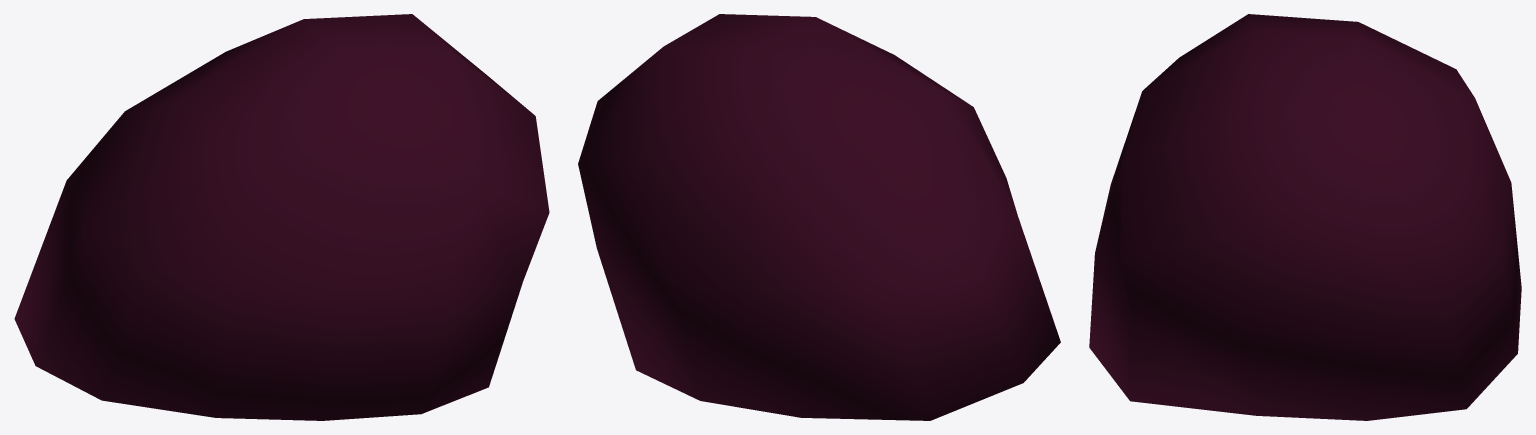
The model's file is slicedredbean2.fbx.
3 views of the same model, side by side, from view 1: azimuth 30°, elevation 25°; view 2: azimuth 150°, elevation 25°; view 3: azimuth 270°, elevation 25° (orthographic). The views are drawn at different scales.
Parts seen in each view (by area): view 1: Cube.019; view 2: Cube.019; view 3: Cube.019.
Boxes of the visible parts, x1,y1,x2,y2 form: Cube.019: (14, 14, 549, 420); Cube.019: (578, 14, 1060, 420); Cube.019: (1089, 14, 1521, 420).
Size of the model in its own units: 163 by 110 by 129.
